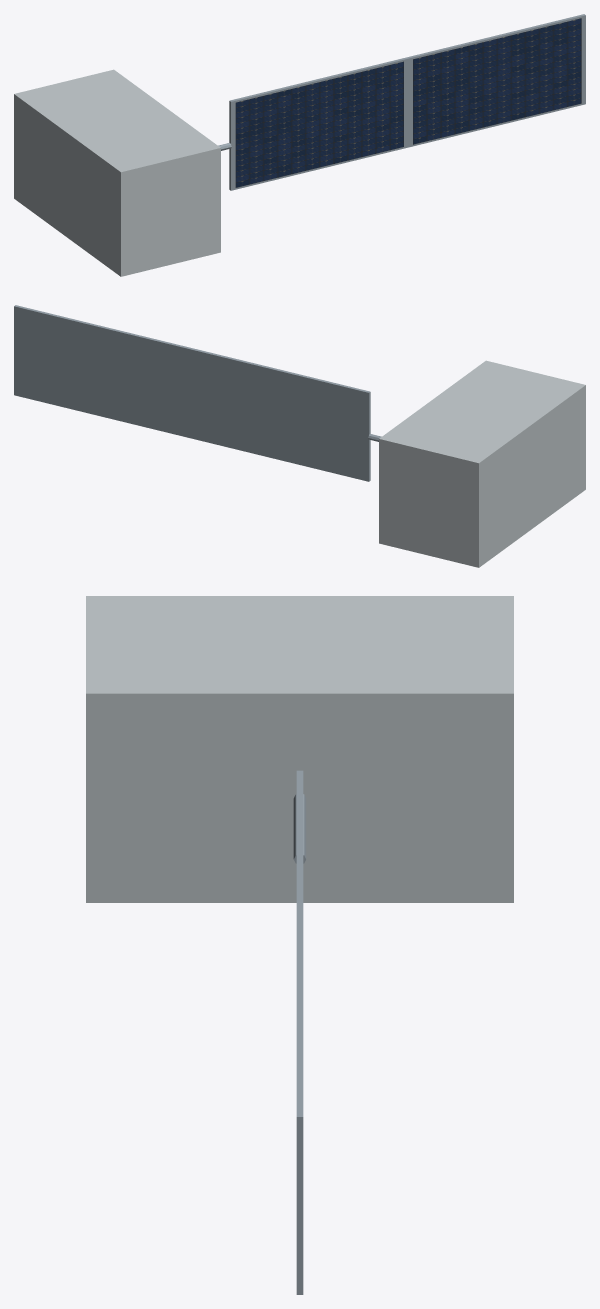
The model's file is ref-metop-29499.glb.
3 renders of one model, top to bottom at view 1: azimuth 30°, elevation 25°; view 2: azimuth 150°, elevation 25°; view 3: azimuth 270°, elevation 25°, orthographic. The views are drawn at different scales.
Parts seen in each view (by area): view 1: Spacecraft body, Photovoltaic laminates (×2), Array frame (×2); view 2: Array frame (×2), Spacecraft body; view 3: Spacecraft body, Array frame (×2).
Boxes of the visible parts, <box> form: Spacecraft body: <box>14,69,220,276</box>; Photovoltaic laminates (×2): <box>235,18,581,187</box>; Array frame (×2): <box>229,14,585,190</box>; Array frame (×2): <box>14,305,370,481</box>; Spacecraft body: <box>379,360,585,567</box>; Spacecraft body: <box>86,596,513,902</box>; Array frame (×2): <box>296,770,303,1294</box>.
Bounding box in the file's own units: 17.6 × 3.4 × 6.3.
3 materials, 1 textured.
